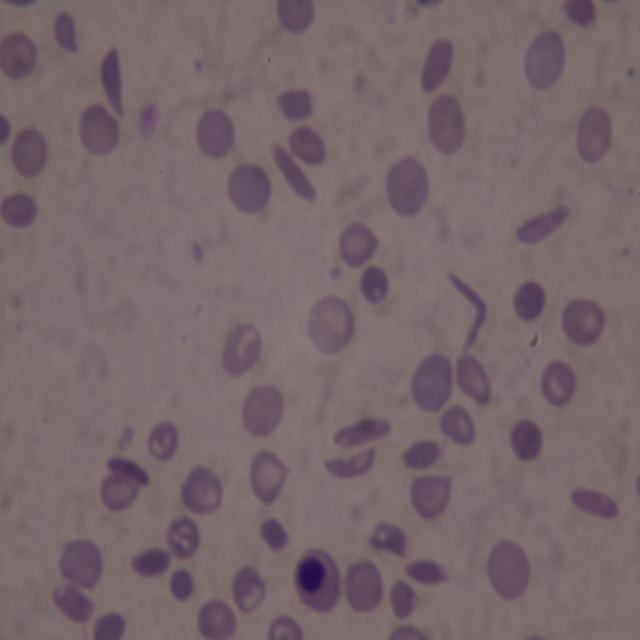Crystal: (272, 144, 316, 200), (516, 204, 571, 247), (331, 416, 394, 450), (571, 486, 621, 522), (404, 559, 450, 585)
Others: (295, 547, 341, 613), (384, 156, 429, 219), (307, 294, 354, 354), (485, 538, 529, 600), (524, 29, 568, 88), (426, 90, 466, 154), (410, 354, 454, 411), (227, 161, 272, 216), (219, 321, 263, 377), (247, 448, 291, 504), (59, 537, 104, 590), (561, 295, 606, 346), (343, 558, 384, 612), (577, 103, 613, 163), (79, 102, 119, 155), (244, 383, 284, 436), (179, 466, 224, 513), (195, 108, 237, 158), (420, 36, 454, 96), (10, 125, 49, 176), (409, 473, 451, 519), (454, 352, 489, 406), (339, 221, 379, 266), (51, 584, 97, 622), (0, 32, 37, 79), (367, 516, 408, 558), (542, 360, 575, 410), (162, 514, 199, 558), (287, 127, 328, 165), (196, 599, 237, 637), (397, 438, 444, 471), (233, 566, 266, 612), (102, 470, 139, 510), (275, 0, 316, 36), (440, 405, 476, 446), (512, 280, 546, 322), (0, 192, 38, 229), (510, 419, 542, 460), (276, 88, 314, 120), (132, 547, 172, 577), (54, 9, 79, 54), (359, 266, 387, 306), (90, 609, 126, 640), (390, 577, 417, 618), (147, 422, 176, 459), (563, 1, 597, 30), (297, 557, 324, 592), (136, 100, 159, 141), (260, 517, 289, 549), (386, 621, 429, 640), (170, 566, 194, 600), (0, 110, 13, 145)
Sickle: (448, 274, 488, 352), (99, 45, 127, 120), (324, 444, 376, 480), (104, 454, 150, 488)
Target: (266, 613, 304, 639)
